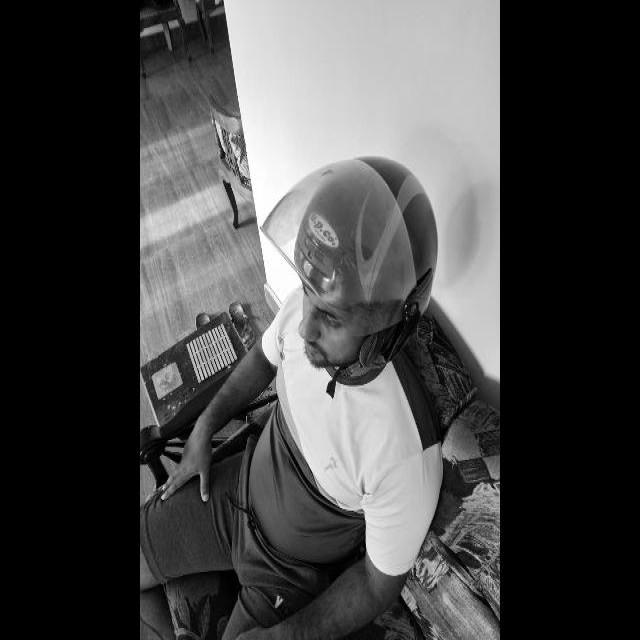5_casco: (260, 155, 438, 370)
